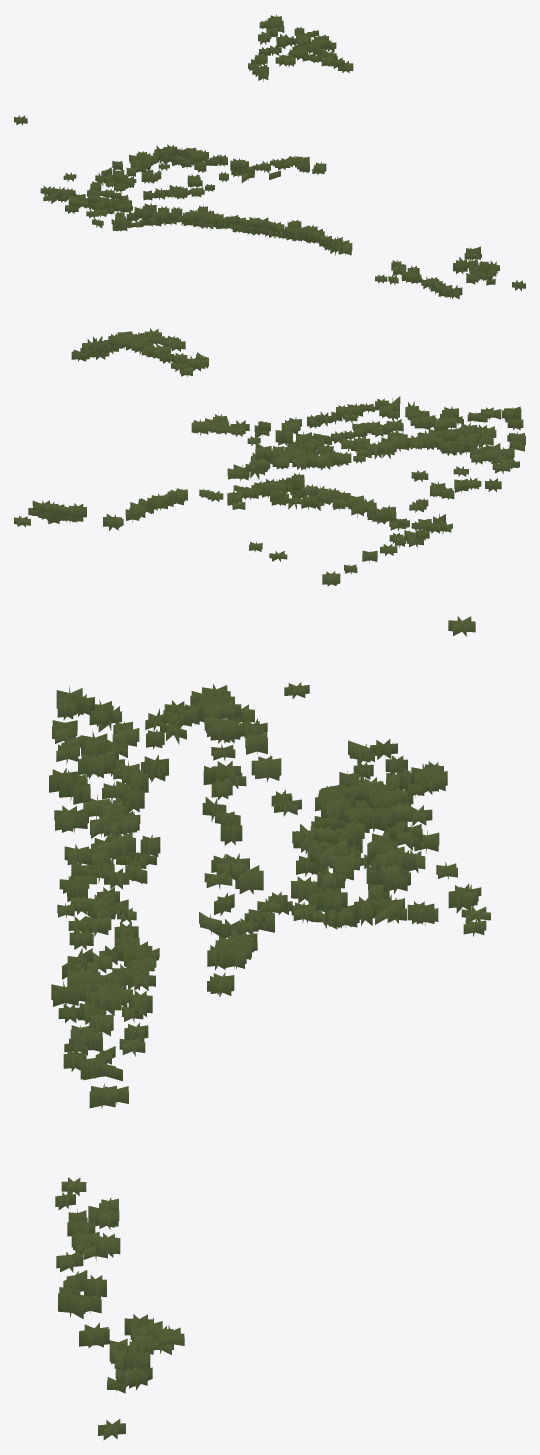
File: TRB8-GRASS-CHUNK-1-0.glb
The picture shows the model from 3 angles, top to bottom: view 1: azimuth 30°, elevation 25°; view 2: azimuth 150°, elevation 25°; view 3: azimuth 270°, elevation 25°; orthographic projection. The views are drawn at different scales.
Visible parts, largest first — view 1: TRB8-GRASS-CHUNK-1-0; view 2: TRB8-GRASS-CHUNK-1-0; view 3: TRB8-GRASS-CHUNK-1-0.
Boxes of the visible parts, x1=… form: TRB8-GRASS-CHUNK-1-0: x1=14, y1=14, x2=525, y2=299; TRB8-GRASS-CHUNK-1-0: x1=14, y1=328, x2=525, y2=586; TRB8-GRASS-CHUNK-1-0: x1=49, y1=616, x2=490, y2=1440.
Size of the model in its own units: 19.69 by 11.12 by 8.82.
1 material, 1 textured.
